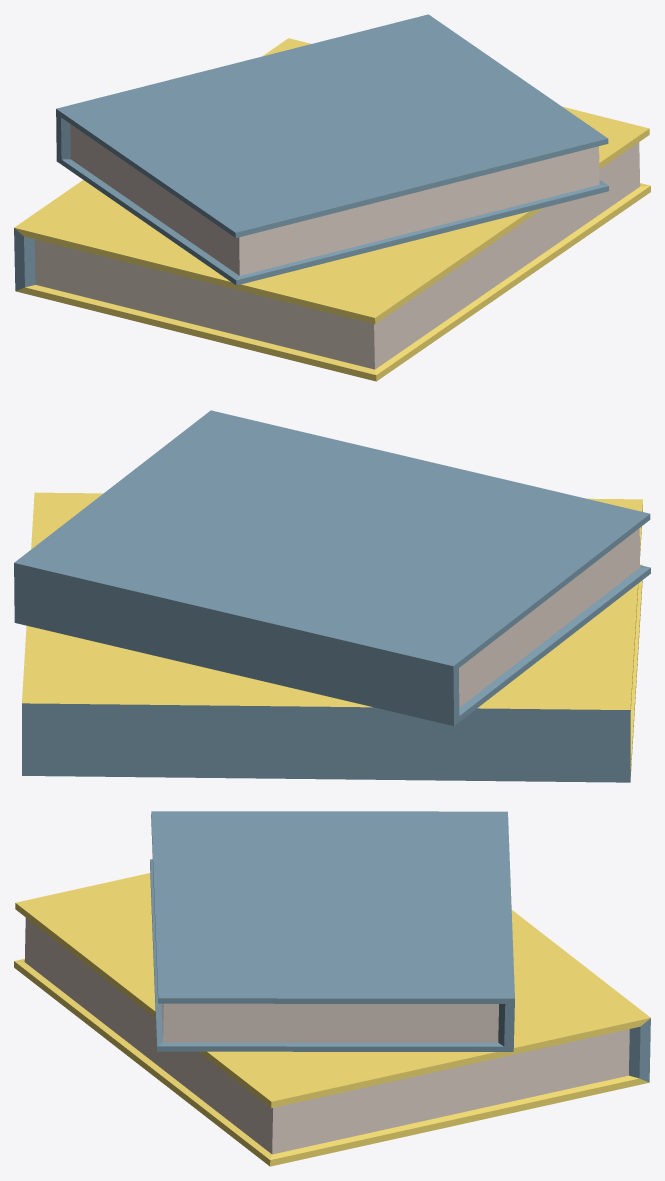
The model's file is Books_16.fbx.
3 views of the same model, one above another, from view 1: azimuth 30°, elevation 25°; view 2: azimuth 150°, elevation 25°; view 3: azimuth 270°, elevation 25° (orthographic). The views are drawn at different scales.
Visible parts, largest first — view 1: Books_16; view 2: Books_16; view 3: Books_16.
Boxes of the visible parts, x1,y1,x2,y2 form: Books_16: (14,14,650,381); Books_16: (14,410,650,782); Books_16: (14,811,650,1166).
Bounding box in the file's own units: 50.95 × 47.85 × 10.2.
